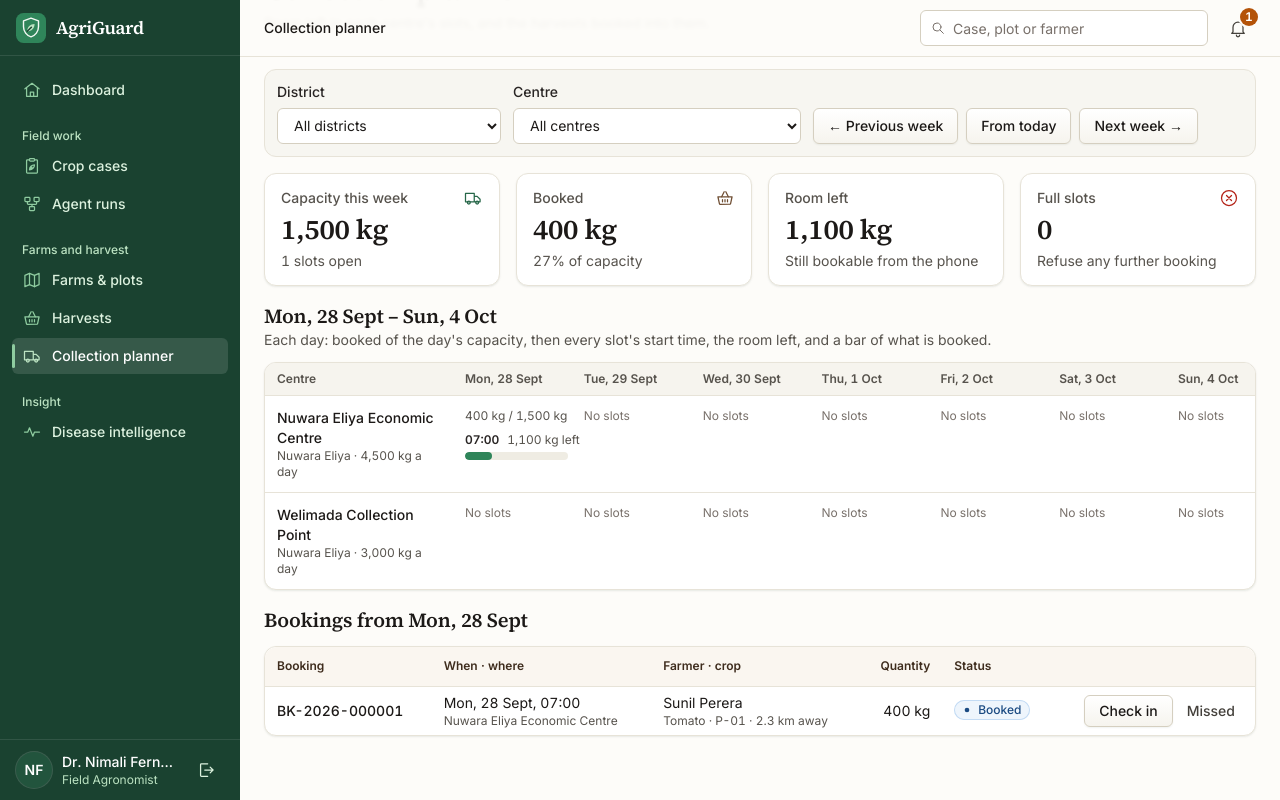
Test case: CollectionPlannerPage › at the centre › shows why a step was refused
This screenshot has width=1280, height=800.
(page scrolled)
Step 1. Click the button with aria-label "Check in: BK-2026-000001" → (1128, 710), box [1084,694,1173,726]
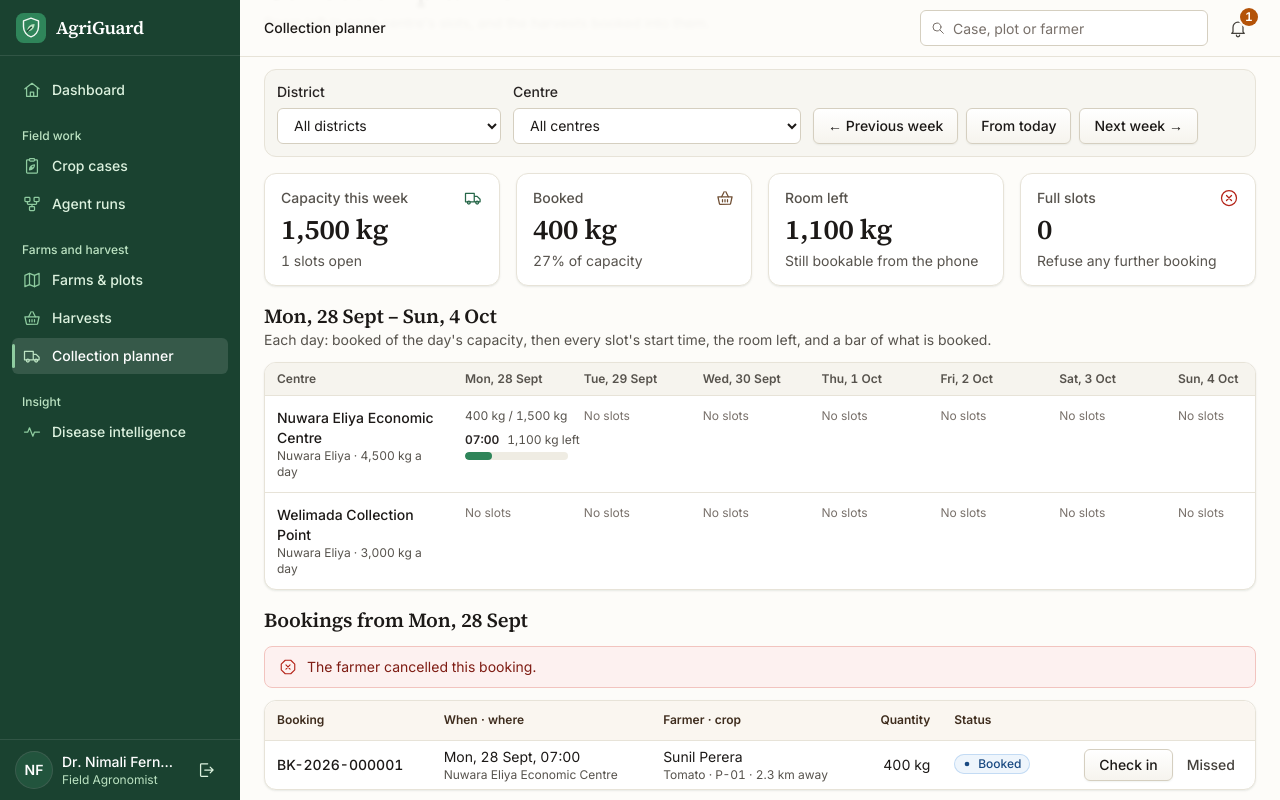
expect the text "The farmer cancelled this booking." is shown: met, box [307,656,536,676]
